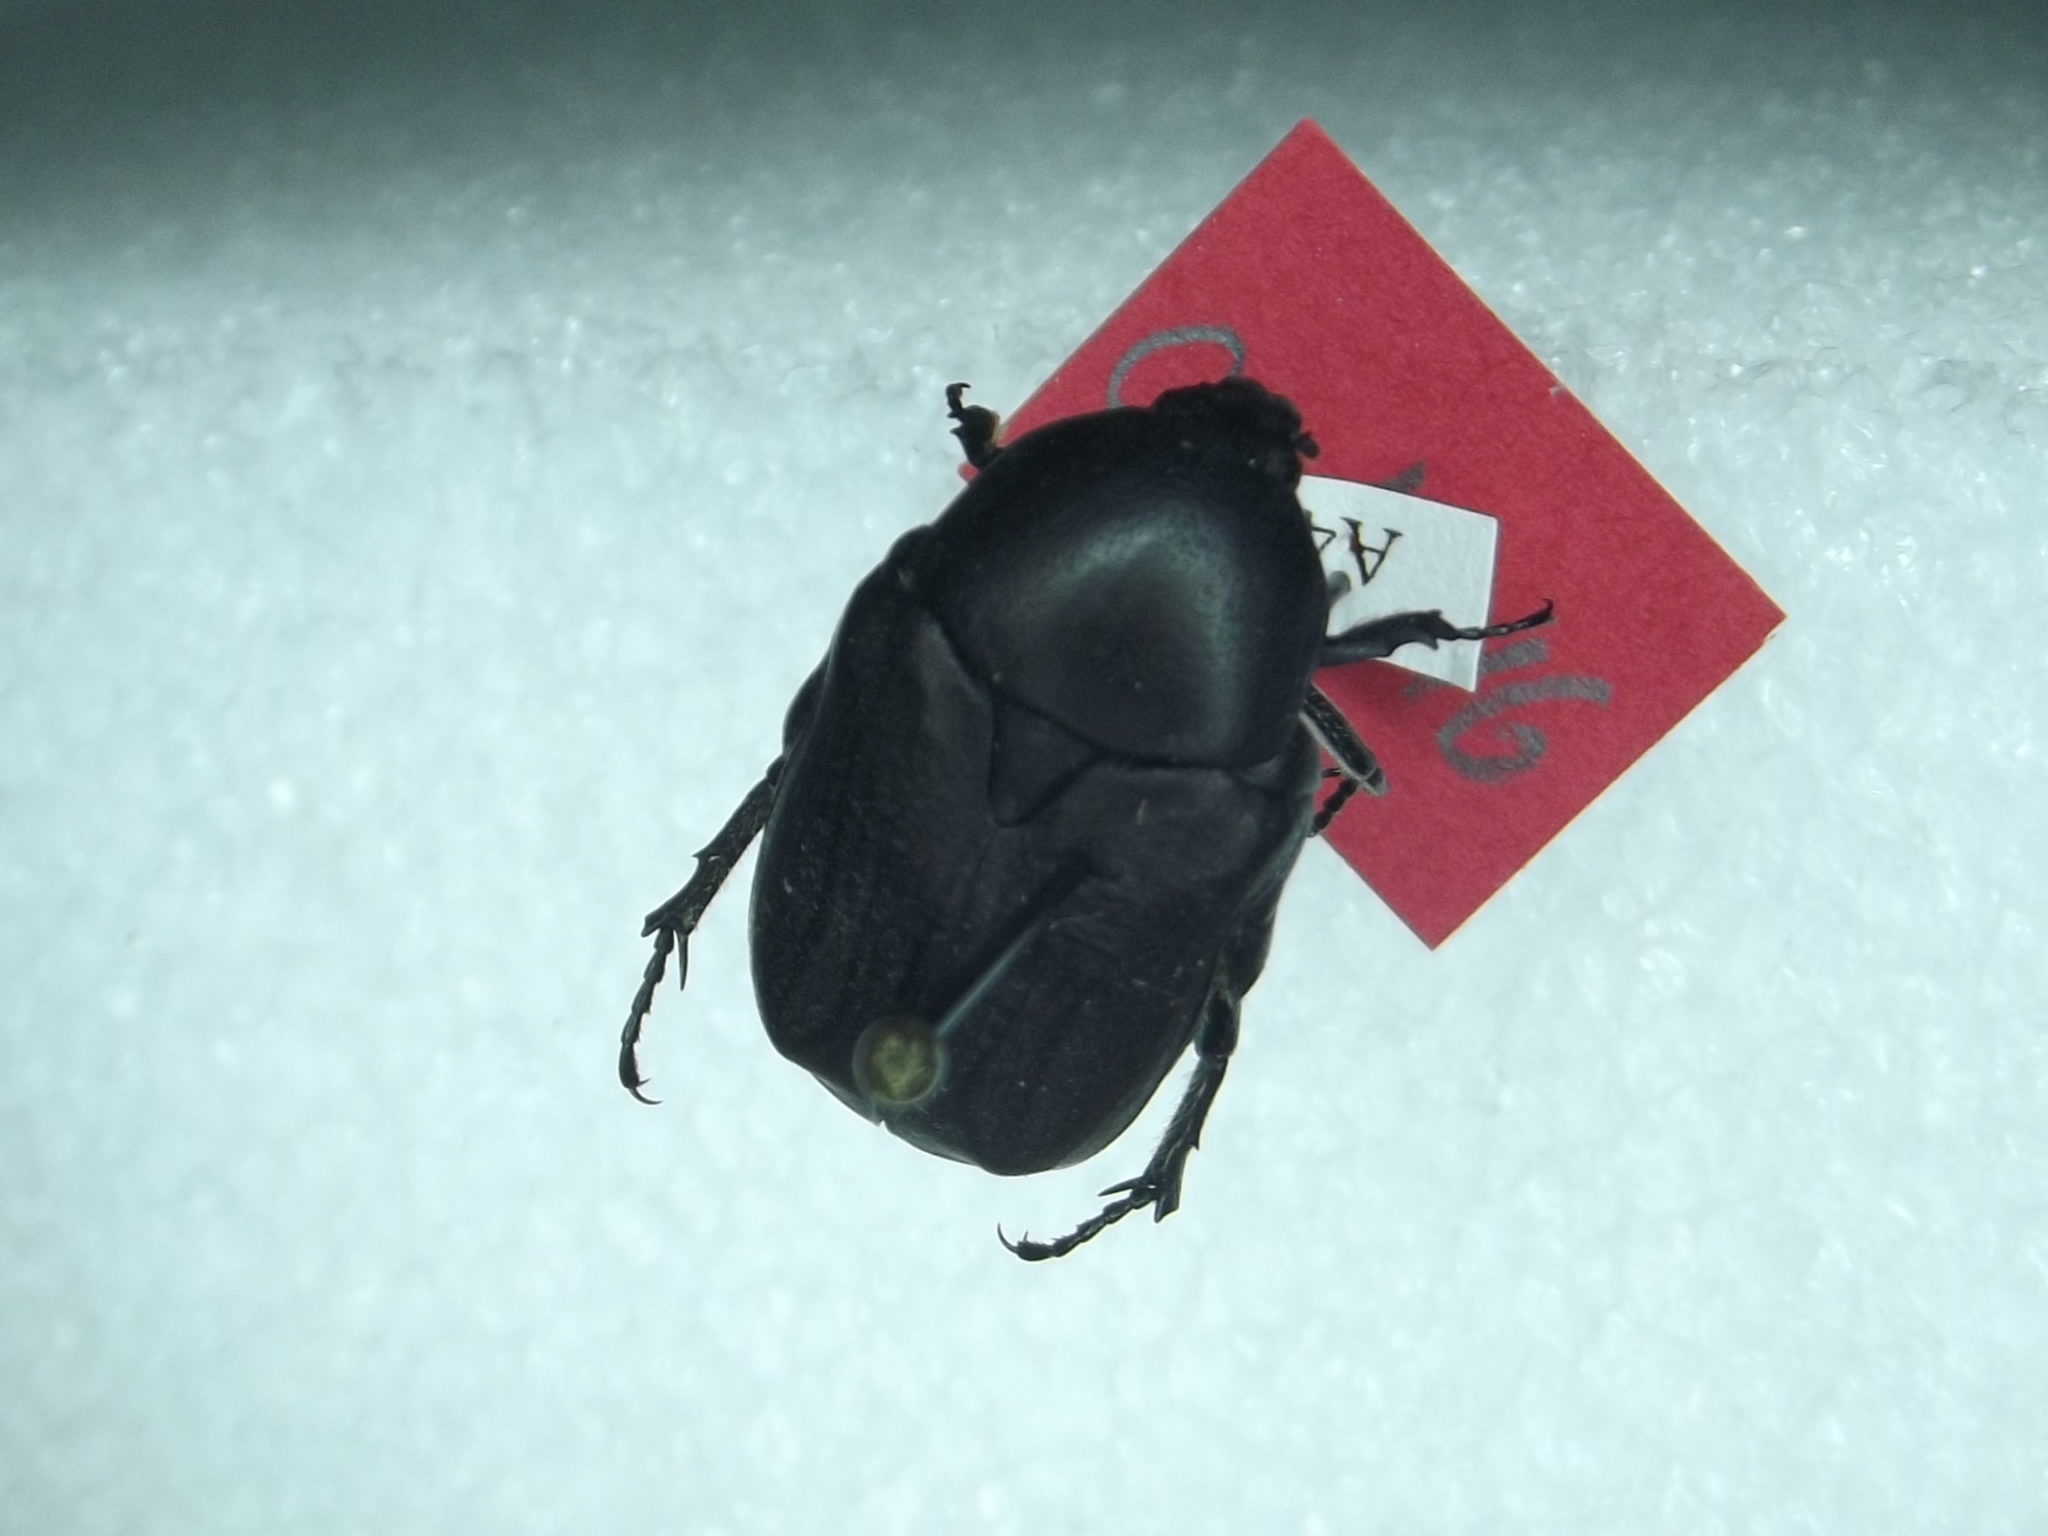Protaetia_vidua: (576, 328, 1588, 1323)
